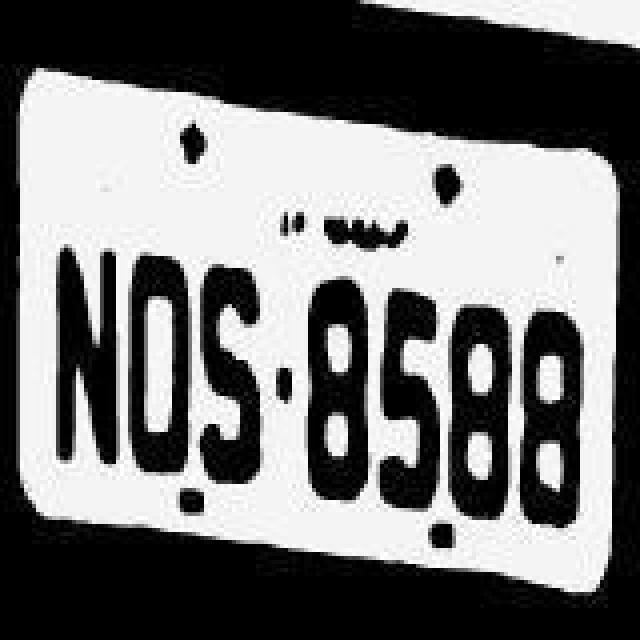5: (378, 284, 446, 516)
8: (516, 292, 588, 540), (298, 268, 374, 500), (444, 292, 516, 524)
N: (50, 240, 126, 480)
O: (126, 238, 194, 482)
S: (192, 254, 272, 490)
